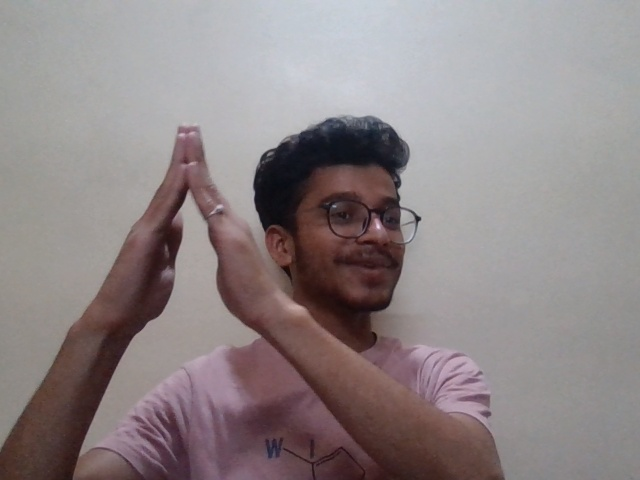home: (94, 112, 273, 326)
